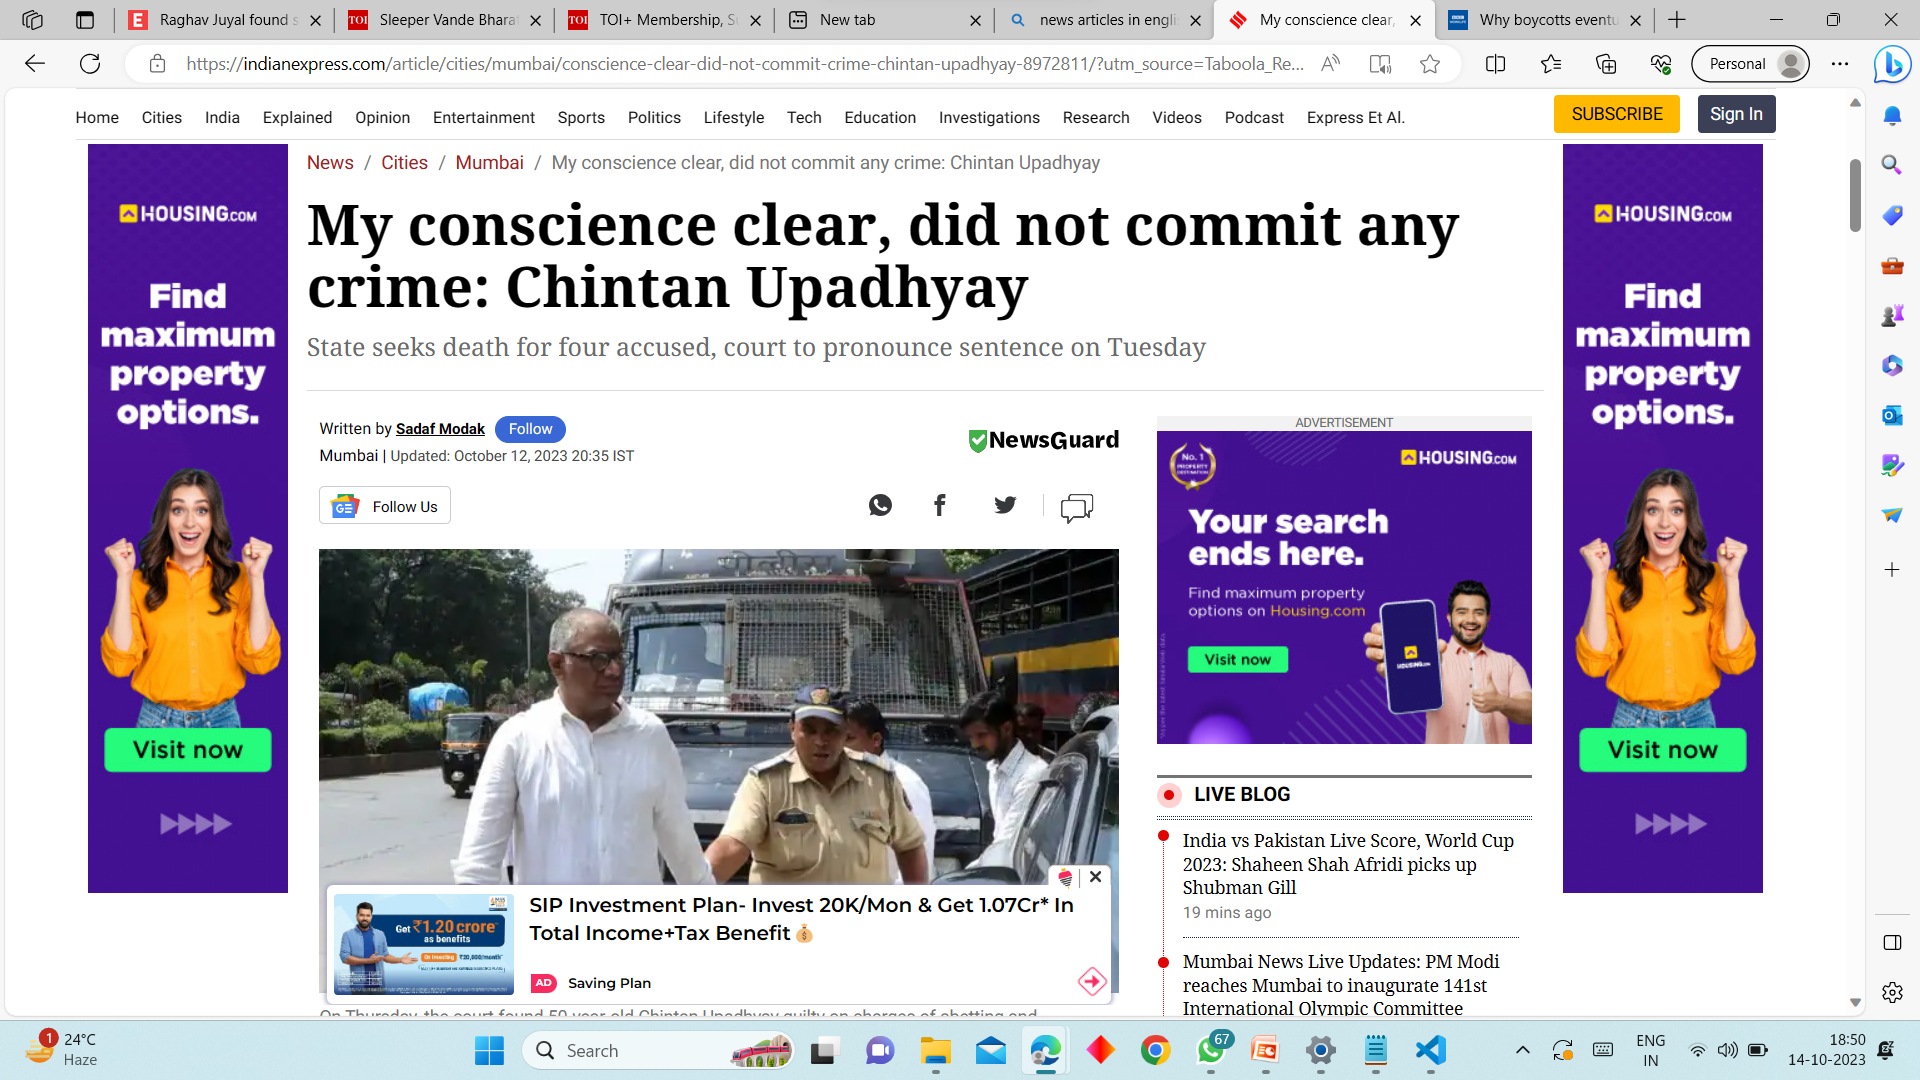Image: (335, 543, 1116, 878), (84, 145, 293, 887), (1569, 141, 1759, 894), (1163, 434, 1530, 745), (334, 890, 514, 984), (1559, 90, 1679, 129), (324, 495, 454, 524), (1700, 92, 1778, 138), (977, 476, 1035, 533), (1044, 483, 1109, 533), (856, 485, 910, 534), (928, 488, 955, 525), (928, 508, 936, 521)
Paragraph: (299, 174, 1460, 322), (309, 327, 1209, 378), (525, 894, 1093, 951), (1180, 827, 1510, 922), (1176, 951, 1518, 1019), (318, 411, 644, 472), (553, 150, 1102, 174), (957, 421, 1129, 456), (1151, 781, 1328, 812), (939, 96, 1048, 132), (427, 99, 539, 132), (553, 968, 678, 996), (1058, 100, 1138, 141), (1304, 103, 1411, 132), (255, 99, 347, 132), (848, 92, 926, 129), (553, 92, 611, 135), (624, 94, 678, 138), (1216, 103, 1296, 132), (698, 99, 762, 132), (353, 100, 421, 132), (132, 103, 195, 136), (51, 100, 123, 129), (1150, 99, 1205, 136), (787, 94, 829, 136), (203, 99, 255, 132), (309, 148, 360, 174), (386, 150, 427, 177), (454, 152, 534, 165)
